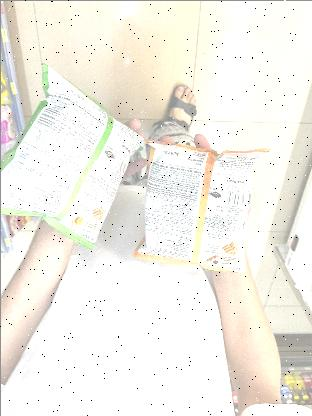Others: (0, 58, 150, 245), (137, 128, 265, 278)
